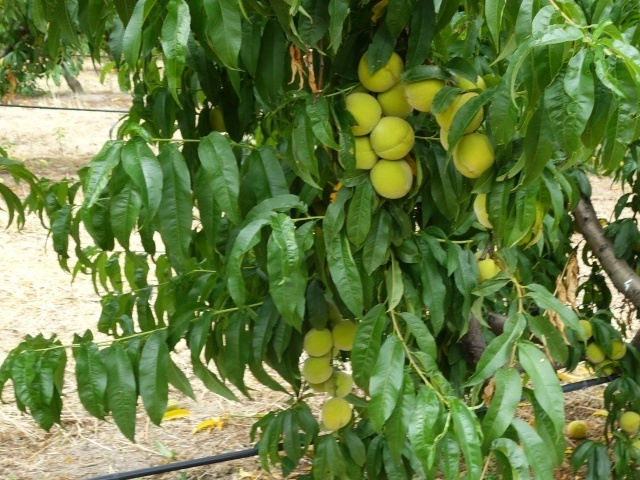peach: (428, 85, 487, 140), (355, 42, 410, 93), (452, 129, 501, 182), (370, 113, 418, 161), (371, 151, 416, 202), (338, 89, 385, 136), (373, 75, 421, 120), (403, 73, 451, 115), (344, 131, 385, 171), (472, 246, 511, 285), (301, 321, 338, 359), (320, 396, 357, 433), (332, 313, 366, 353), (470, 186, 499, 232), (299, 355, 335, 387), (320, 368, 354, 401), (433, 122, 466, 156), (582, 337, 607, 365), (607, 332, 631, 359), (618, 409, 640, 437), (573, 320, 596, 342)
